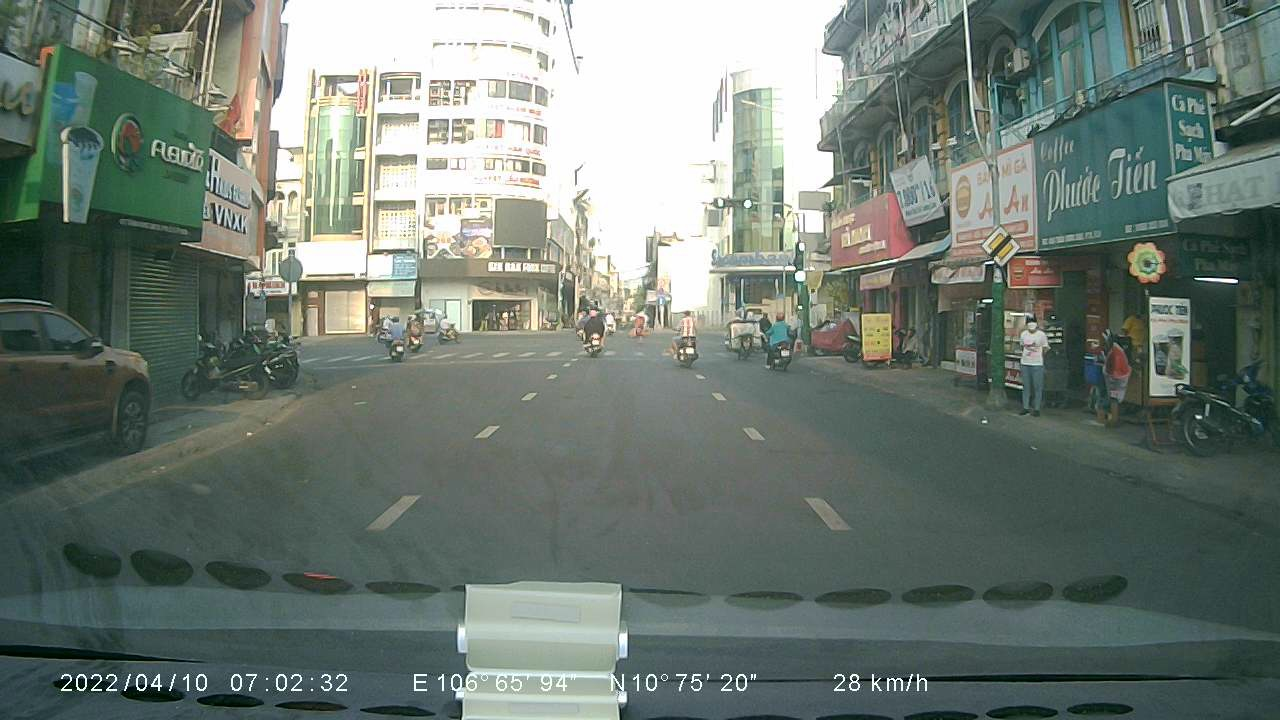Bien khac: (978, 225, 1018, 265)
